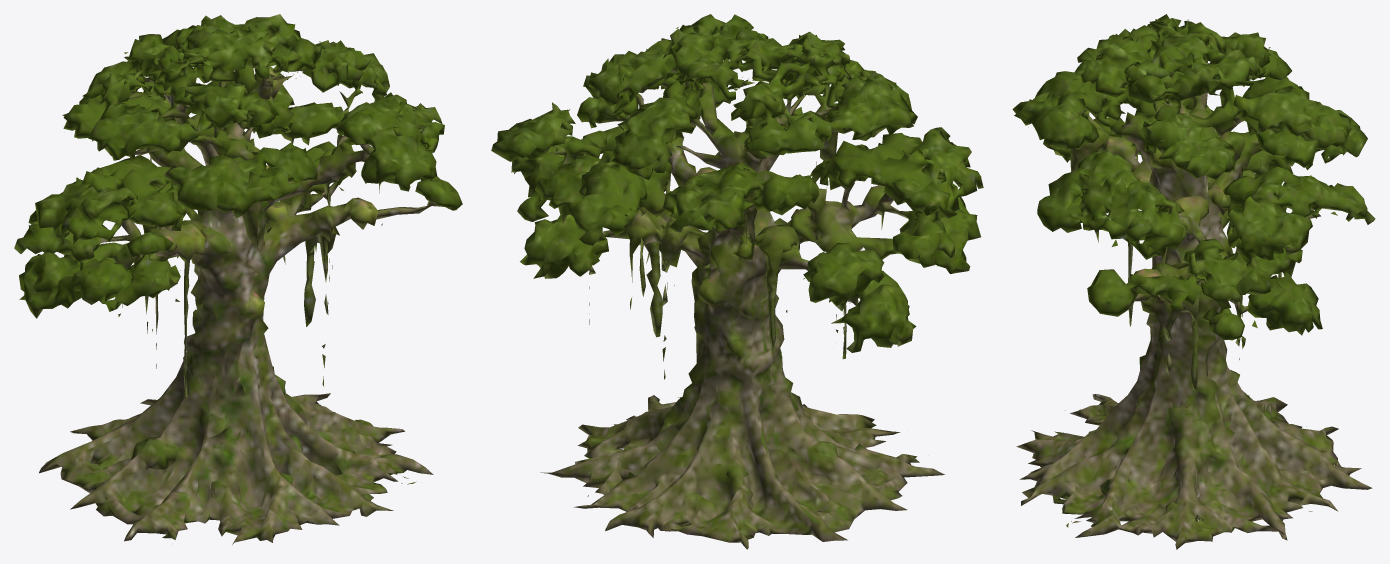
File: ArbolSelva.glb
3 renders of one model, left to right at view 1: azimuth 30°, elevation 25°; view 2: azimuth 150°, elevation 25°; view 3: azimuth 270°, elevation 25°, orthographic. The views are drawn at different scales.
Visible parts, largest first — view 1: Arbol; view 2: Arbol; view 3: Arbol.
Part boxes in pixels (left/top/right/bottom): Arbol: left=14, top=14, right=462, bottom=544; Arbol: left=491, top=14, right=983, bottom=549; Arbol: left=1012, top=14, right=1375, bottom=549.
Bounding box in the file's own units: 1.01 × 1 × 0.7667.
1 material, 1 textured.
